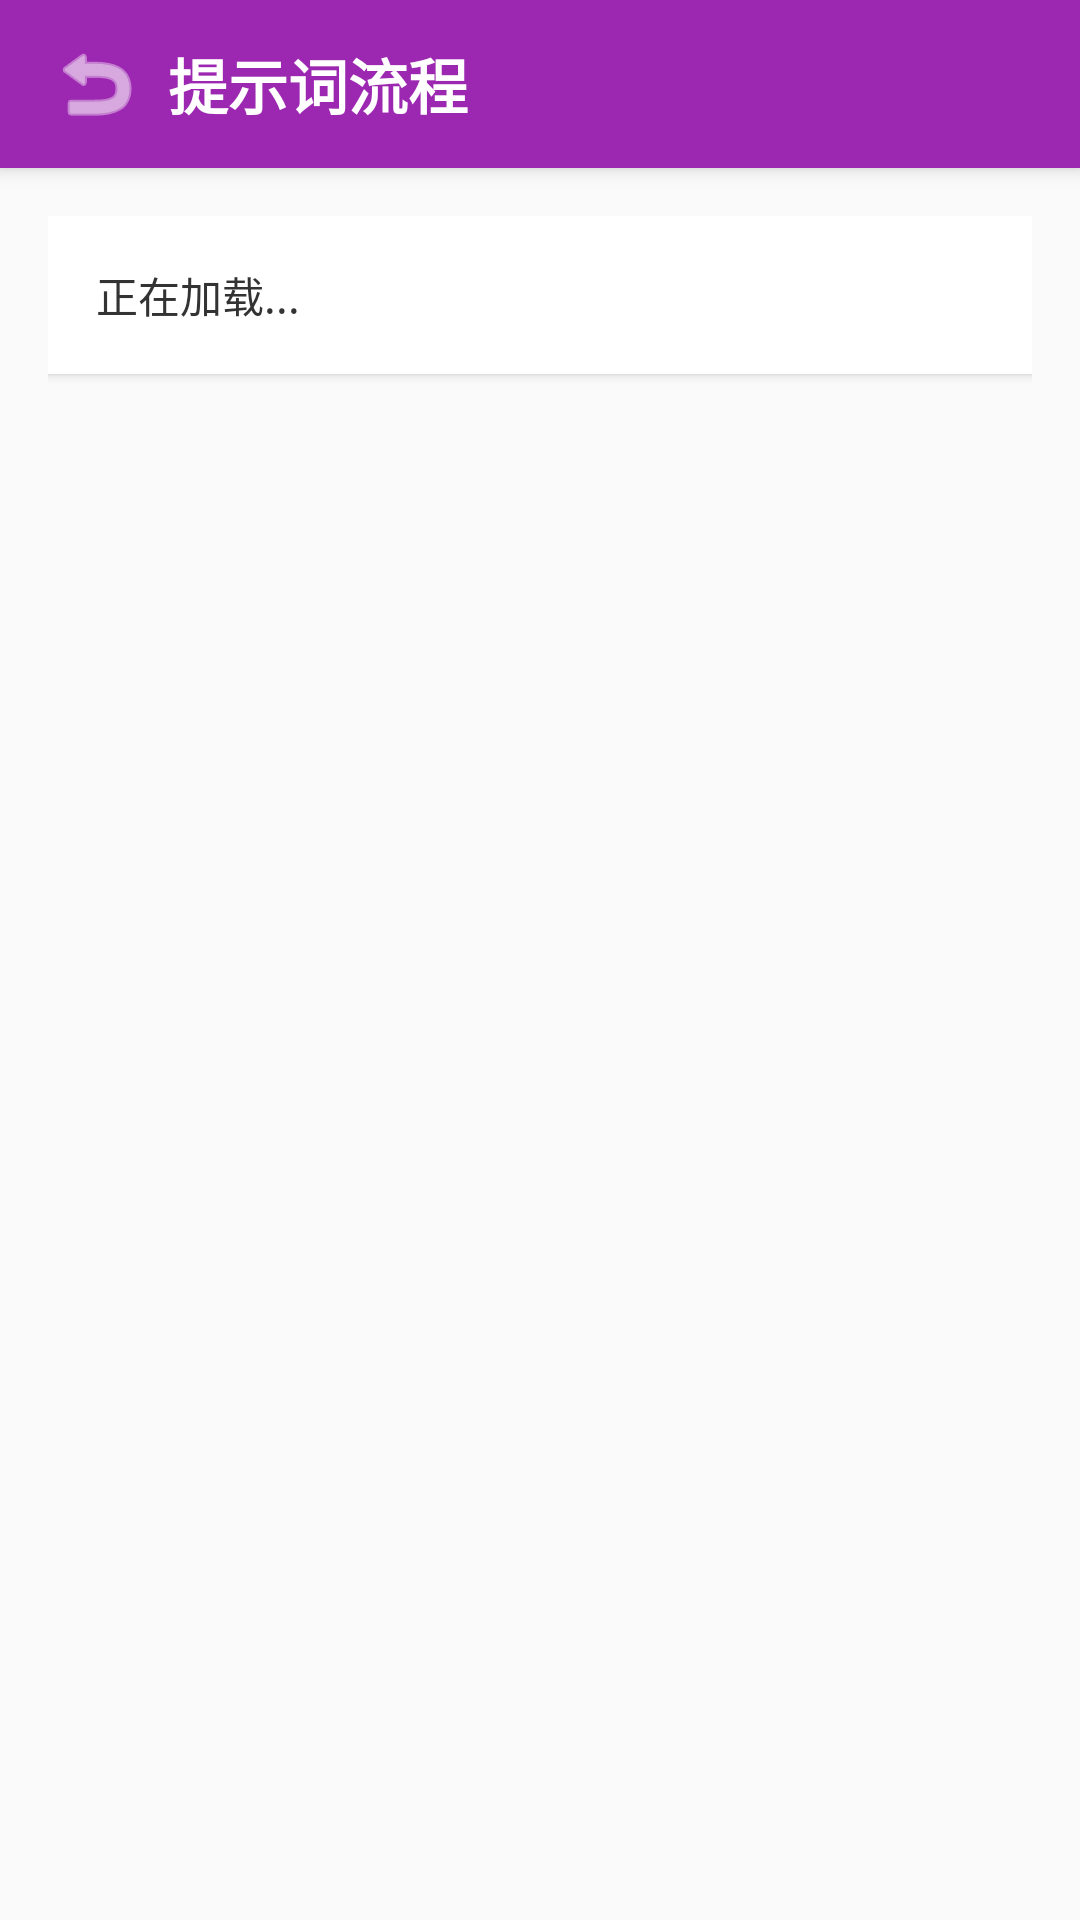

Icons on this 1080x1920 Android screen, each with the point to tap as (x,y):
revert: (97,84)
